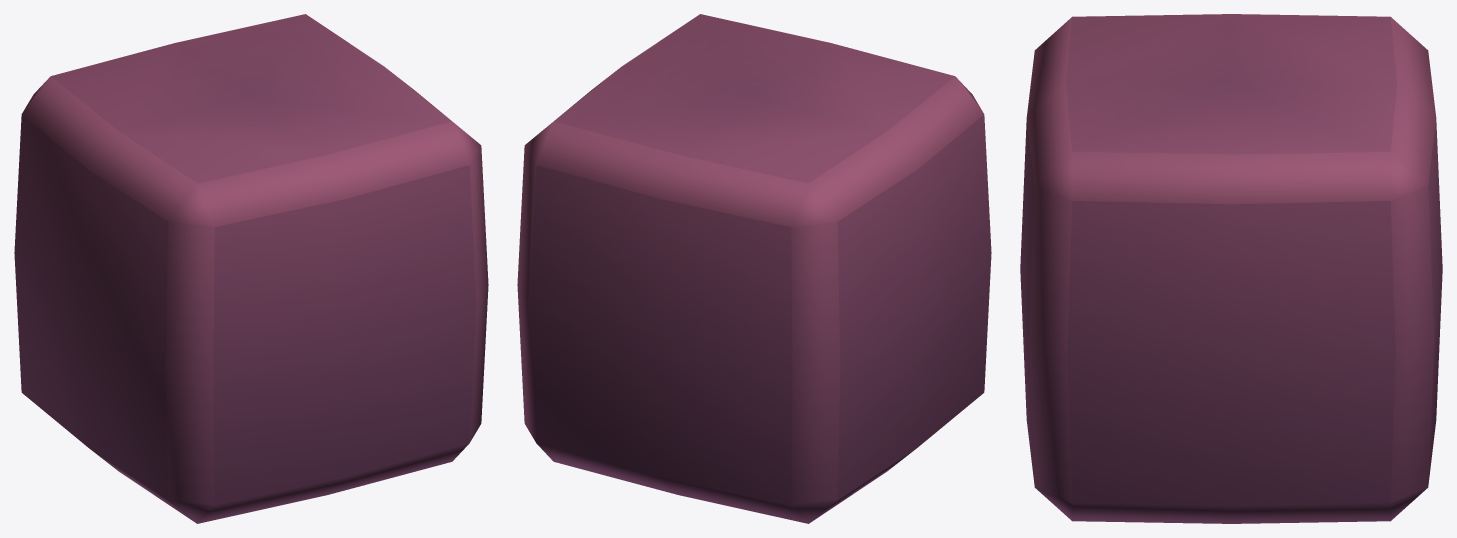
File: cube_50cm_second.fbx
The picture shows the model from 3 angles, left to right: view 1: azimuth 30°, elevation 25°; view 2: azimuth 150°, elevation 25°; view 3: azimuth 270°, elevation 25°; orthographic projection. The views are drawn at different scales.
Visible parts, largest first — view 1: cube_50cm_second; view 2: cube_50cm_second; view 3: cube_50cm_second.
Part boxes in pixels (x1,y1,x2,y2): cube_50cm_second: [14, 14, 488, 523]; cube_50cm_second: [517, 14, 991, 523]; cube_50cm_second: [1020, 14, 1442, 523].
Bounding box in the file's own units: 56.86 × 55.02 × 57.01.
